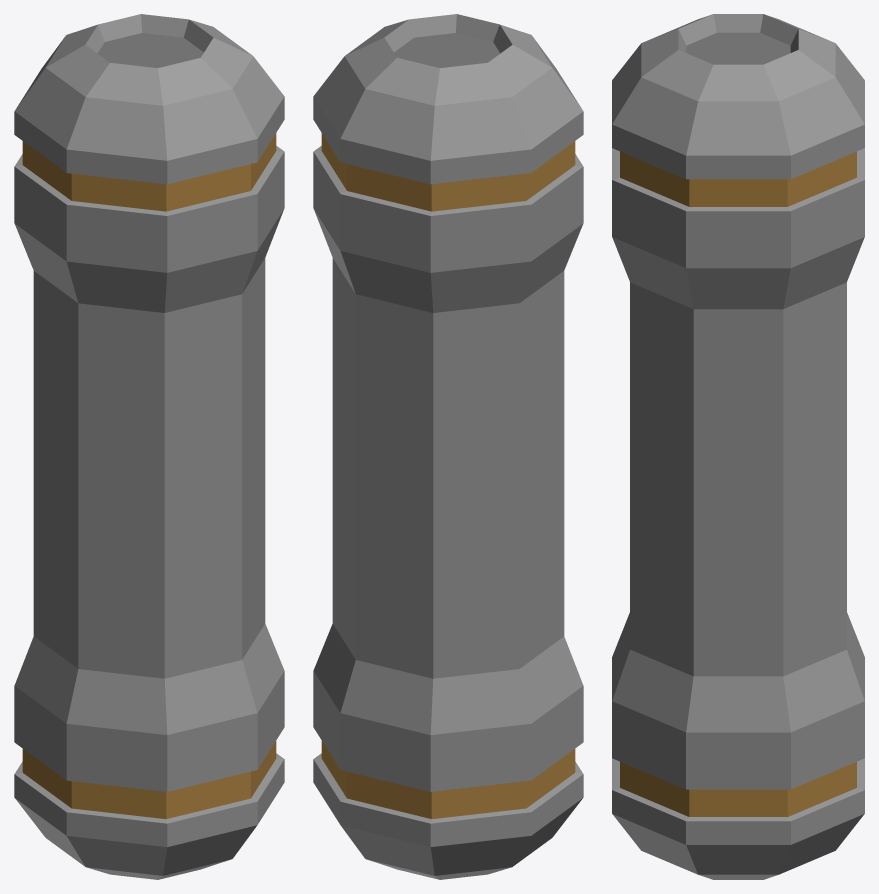
3 renders of one model, left to right at view 1: azimuth 30°, elevation 25°; view 2: azimuth 150°, elevation 25°; view 3: azimuth 270°, elevation 25°, orthographic.
Parts seen in each view (by area): view 1: Props_Vessel_Tall; view 2: Props_Vessel_Tall; view 3: Props_Vessel_Tall.
Boxes of the visible parts, x1,y1,x2,y2 form: Props_Vessel_Tall: [14, 14, 284, 879]; Props_Vessel_Tall: [313, 14, 583, 879]; Props_Vessel_Tall: [612, 14, 864, 879].
Bounding box in the file's own units: 0.2873 × 1.02 × 0.2873.
